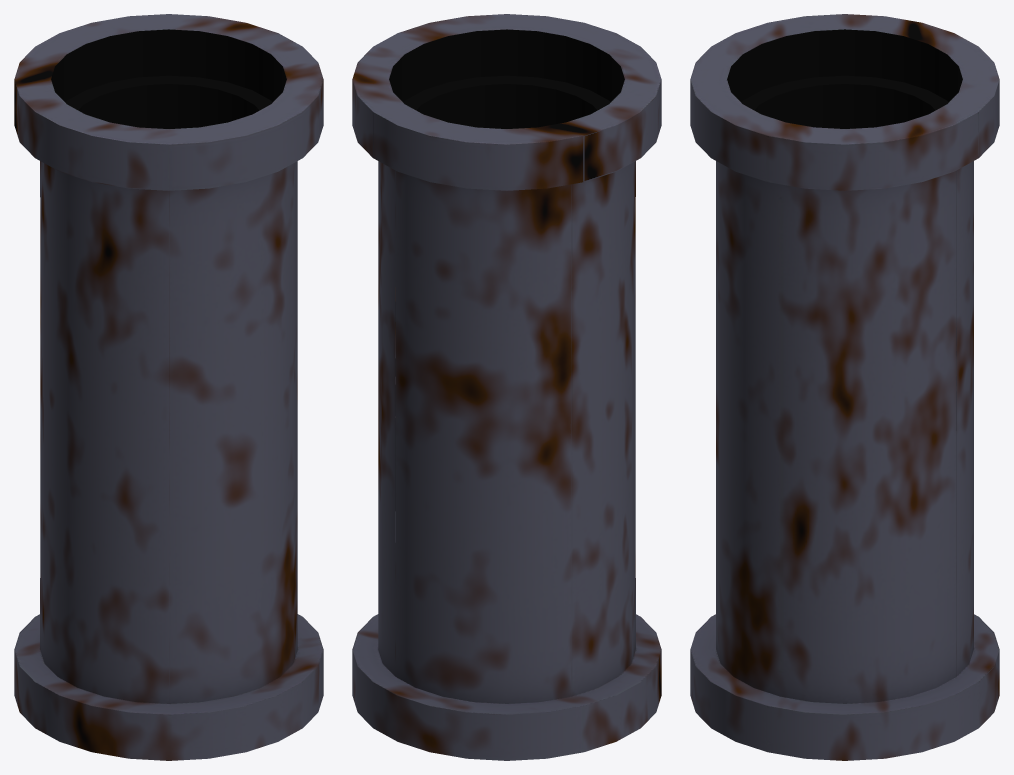
The model's file is PipeShort.fbx.
The picture shows the model from 3 angles, left to right: view 1: azimuth 30°, elevation 25°; view 2: azimuth 150°, elevation 25°; view 3: azimuth 270°, elevation 25°; orthographic projection.
Parts seen in each view (by area): view 1: PipeStraightTwink; view 2: PipeStraightTwink; view 3: PipeStraightTwink.
Part boxes in pixels (left/top/right/bottom): PipeStraightTwink: left=14, top=14, right=323, bottom=760; PipeStraightTwink: left=352, top=14, right=661, bottom=760; PipeStraightTwink: left=690, top=14, right=999, bottom=760.
Size of the model in its own units: 182 by 401 by 182.
Materials: 2 (1 with a texture image).
